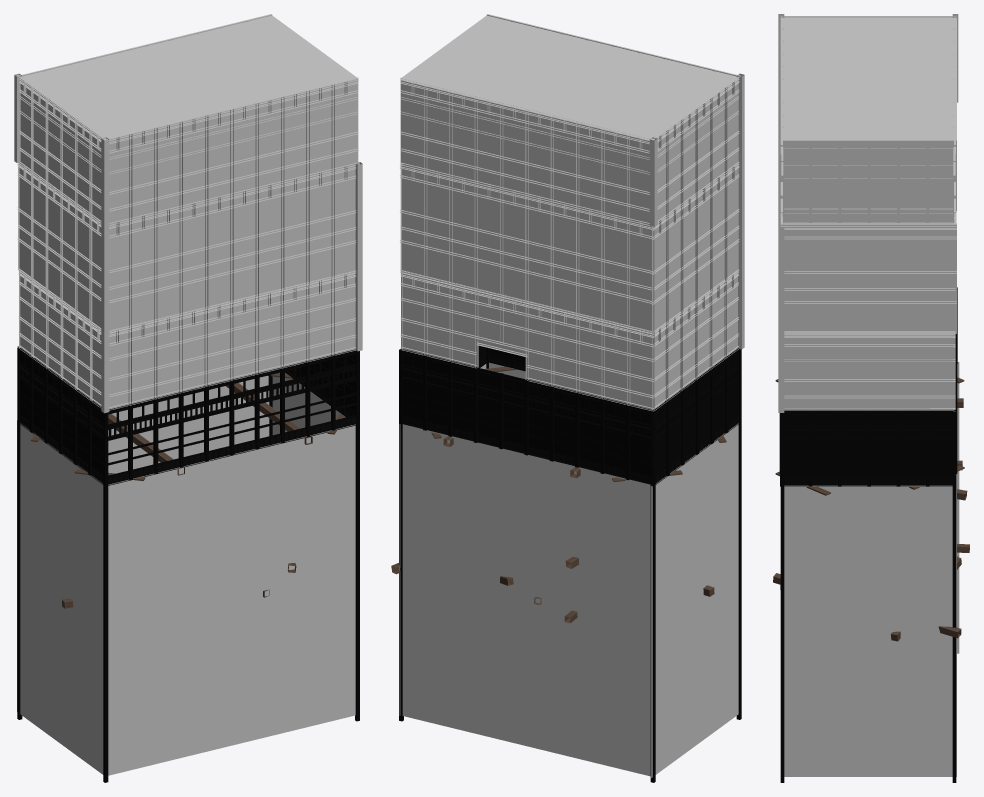
3 views of the same model, side by side, from view 1: azimuth 30°, elevation 25°; view 2: azimuth 150°, elevation 25°; view 3: azimuth 270°, elevation 25° (orthographic).
Parts seen in each view (by area): view 1: L2A5_1F-2_Wall_003, L2A5_1F-2_Wall_001, L2A5_1F-2_Wall_005, L2A5_1F-2_Wall_004, L2A5_1F-2_Ceiling, L2A5_1F-2_Wall_002; view 2: L2A5_1F-2_Wall_003, L2A5_1F-2_Wall_001, L2A5_1F-2_Wall_005, L2A5_1F-2_Wall_004, L2A5_1F-2_Ceiling, L2A5_1F-2_Wall_002; view 3: L2A5_1F-2_Wall_003, L2A5_1F-2_Wall_001, L2A5_1F-2_Ceiling, L2A5_1F-2_Wall_004, L2A5_1F-2_Wall_005, L2A5_1F-2_Wall_002.
Boxes of the visible parts, x1=… form: L2A5_1F-2_Wall_003: x1=17, y1=346, x2=359, y2=782; L2A5_1F-2_Wall_001: x1=17, y1=162, x2=362, y2=334; L2A5_1F-2_Wall_005: x1=14, y1=14, x2=358, y2=226; L2A5_1F-2_Wall_004: x1=18, y1=268, x2=362, y2=413; L2A5_1F-2_Ceiling: x1=20, y1=15, x2=358, y2=140; L2A5_1F-2_Wall_002: x1=31, y1=373, x2=345, y2=608; L2A5_1F-2_Wall_003: x1=399, y1=345, x2=741, y2=782; L2A5_1F-2_Wall_001: x1=400, y1=161, x2=744, y2=334; L2A5_1F-2_Wall_005: x1=400, y1=14, x2=744, y2=226; L2A5_1F-2_Wall_004: x1=400, y1=269, x2=744, y2=411; L2A5_1F-2_Ceiling: x1=400, y1=15, x2=738, y2=140; L2A5_1F-2_Wall_002: x1=391, y1=366, x2=726, y2=623; L2A5_1F-2_Wall_003: x1=779, y1=287, x2=959, y2=782; L2A5_1F-2_Wall_001: x1=778, y1=102, x2=956, y2=334; L2A5_1F-2_Ceiling: x1=781, y1=17, x2=956, y2=140; L2A5_1F-2_Wall_004: x1=778, y1=208, x2=955, y2=412; L2A5_1F-2_Wall_005: x1=778, y1=14, x2=958, y2=213; L2A5_1F-2_Wall_002: x1=773, y1=377, x2=969, y2=641.
Bounding box in the file's own units: 4390 × 2692 × 9705.
